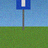sign: (16, 0, 30, 35)
